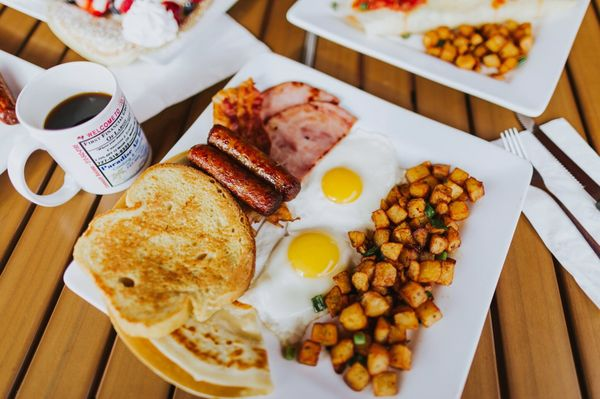burger: (499, 126, 600, 267)
pizza: (3, 60, 152, 210)
